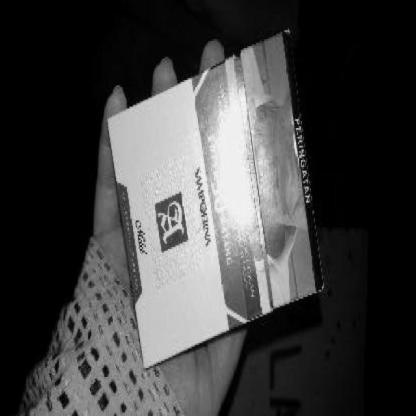objects: (106, 30, 322, 368)
